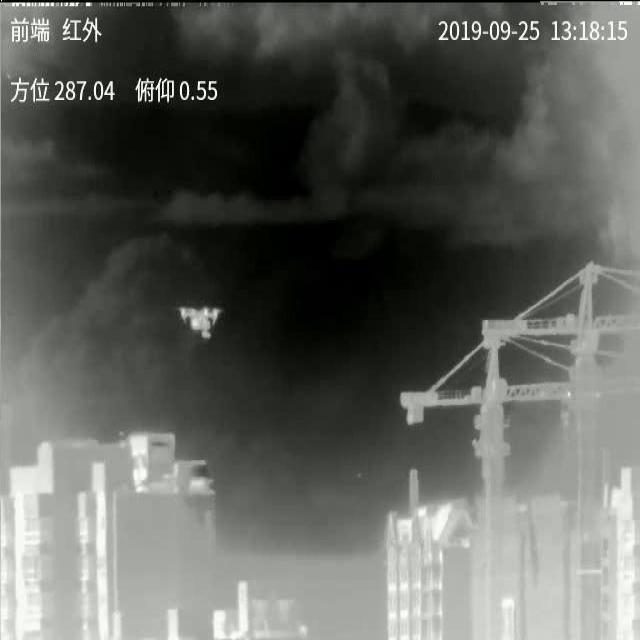drone: (177, 307, 223, 339)
